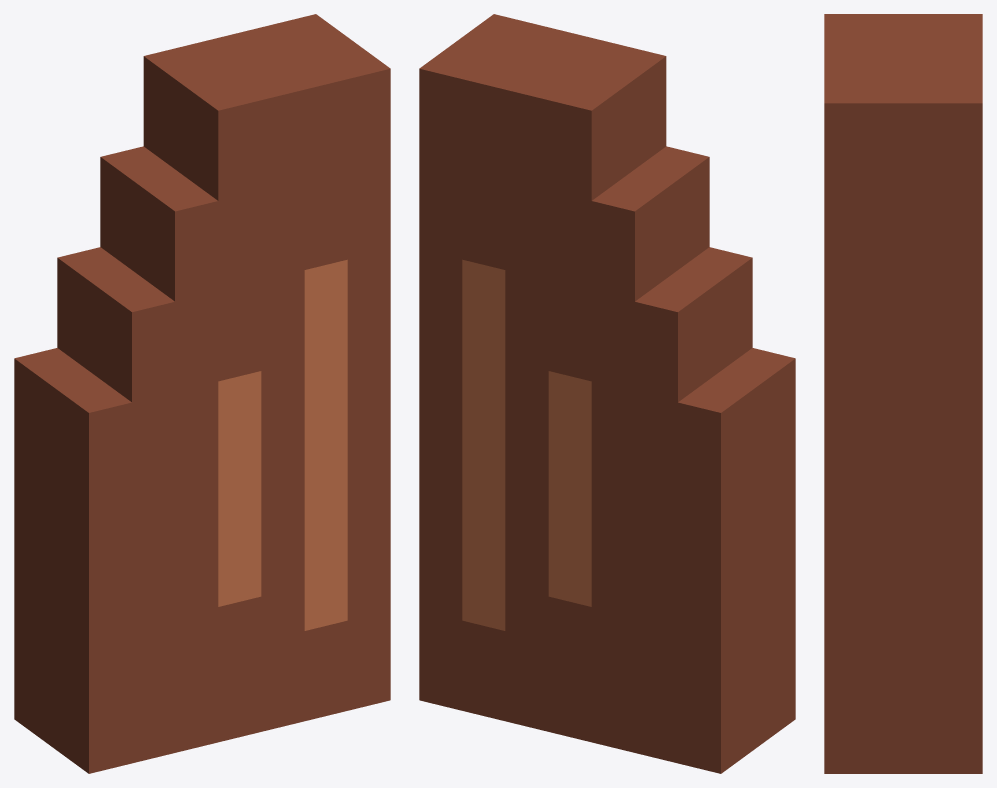
File: Door.dae
3 renders of one model, left to right at view 1: azimuth 30°, elevation 25°; view 2: azimuth 150°, elevation 25°; view 3: azimuth 270°, elevation 25°, orthographic. The views are drawn at different scales.
Parts seen in each view (by area): view 1: generated; view 2: generated; view 3: generated.
Part boxes in pixels (x1,y1,x2,y2): generated: (14, 14, 390, 773); generated: (419, 14, 795, 773); generated: (824, 14, 982, 773).
Size of the model in its own units: 7 by 14 by 3.
Materials: 1 (1 with a texture image).
